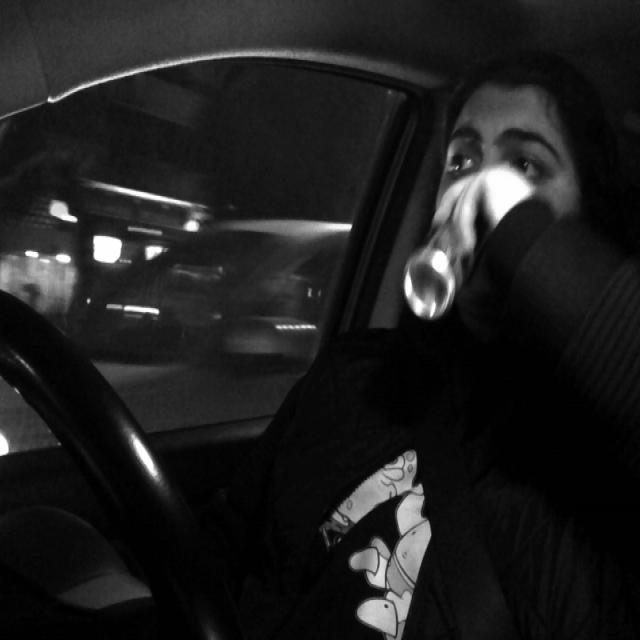drinking: (400, 180, 494, 324)
